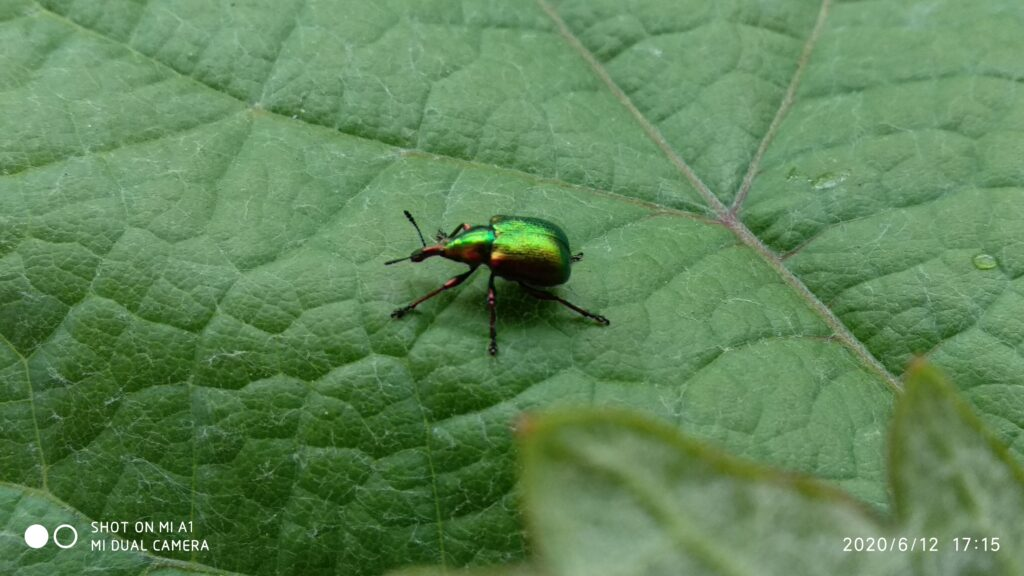dolgonosik: (391, 198, 625, 360)
